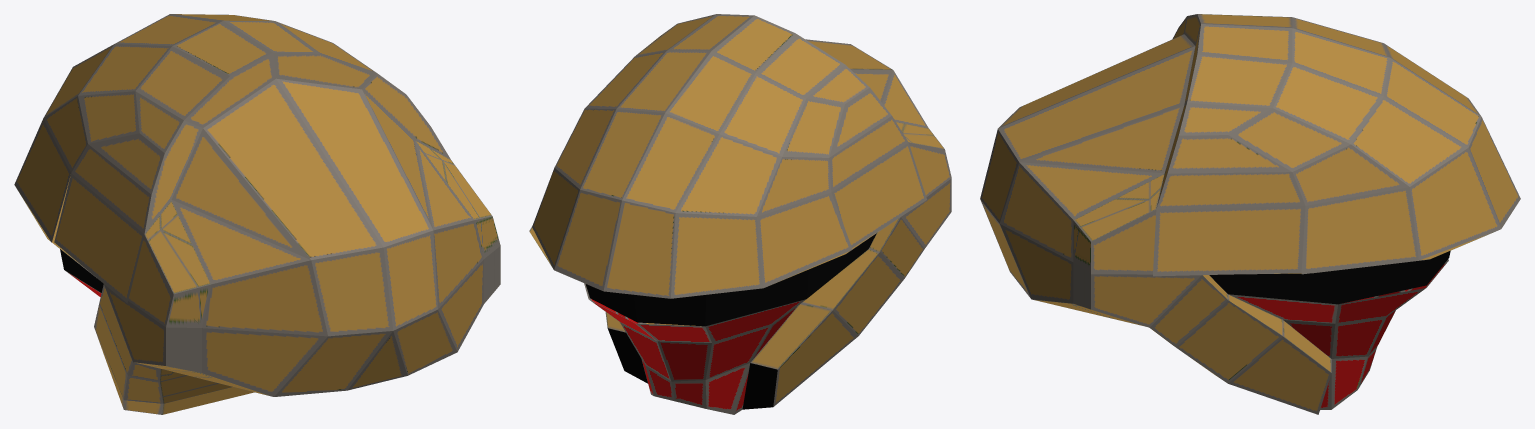
The model's file is Head.fbx.
The picture shows the model from 3 angles, left to right: view 1: azimuth 30°, elevation 25°; view 2: azimuth 150°, elevation 25°; view 3: azimuth 270°, elevation 25°; orthographic projection. The views are drawn at different scales.
Visible parts, largest first — view 1: Shape_IndexedFaceSet.065, Shape_IndexedFaceSet.064, Shape_IndexedFaceSet.066; view 2: Shape_IndexedFaceSet.065, Shape_IndexedFaceSet.066, Shape_IndexedFaceSet.064, Shape_IndexedFaceSet.063; view 3: Shape_IndexedFaceSet.065, Shape_IndexedFaceSet.066, Shape_IndexedFaceSet.064.
Boxes of the visible parts, x1,y1,x2,y2 form: Shape_IndexedFaceSet.065: (14, 14, 483, 414); Shape_IndexedFaceSet.064: (16, 140, 500, 414); Shape_IndexedFaceSet.066: (60, 249, 103, 292); Shape_IndexedFaceSet.065: (532, 14, 951, 414); Shape_IndexedFaceSet.066: (585, 233, 876, 326); Shape_IndexedFaceSet.064: (529, 122, 944, 369); Shape_IndexedFaceSet.063: (607, 328, 777, 409); Shape_IndexedFaceSet.065: (980, 14, 1520, 414); Shape_IndexedFaceSet.066: (1209, 251, 1450, 304); Shape_IndexedFaceSet.064: (1033, 173, 1495, 372).
Bounding box in the file's own units: 0.2508 × 0.2738 × 0.3685.
